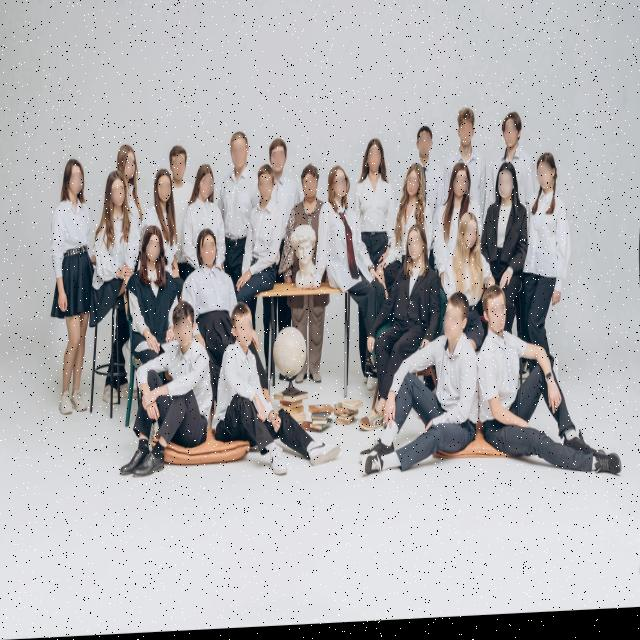Person: (475, 264, 631, 512), (202, 293, 344, 494), (348, 299, 477, 492), (118, 293, 208, 493), (45, 148, 102, 437), (516, 146, 572, 357), (90, 174, 138, 412), (352, 139, 400, 291), (448, 206, 494, 352), (432, 156, 482, 277), (486, 167, 526, 312), (320, 167, 360, 312), (130, 220, 172, 351), (192, 232, 244, 337), (250, 168, 286, 308), (220, 131, 256, 256), (391, 160, 436, 260), (286, 156, 328, 251), (165, 141, 192, 265), (412, 117, 442, 226), (264, 137, 298, 228), (116, 139, 149, 230), (186, 169, 227, 233), (458, 104, 490, 181), (148, 171, 175, 247), (436, 163, 468, 225)
